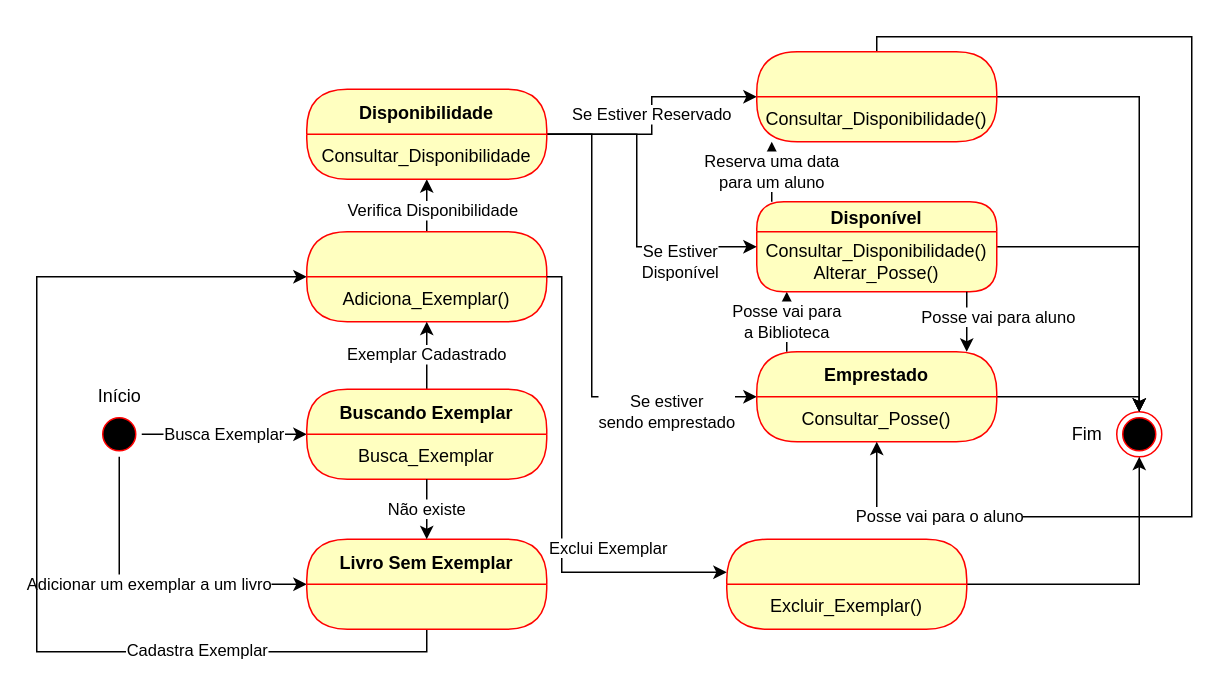
Image size: 1230x690. Some labels were removed from this diagram. The box of each missing label's shape, as (x1, y1, x2, y2) in pixels:
Exemplar Adicionado: (305, 230, 547, 322)
Exemplar Excluido: (725, 538, 967, 629)
Reservado: (755, 50, 997, 142)
